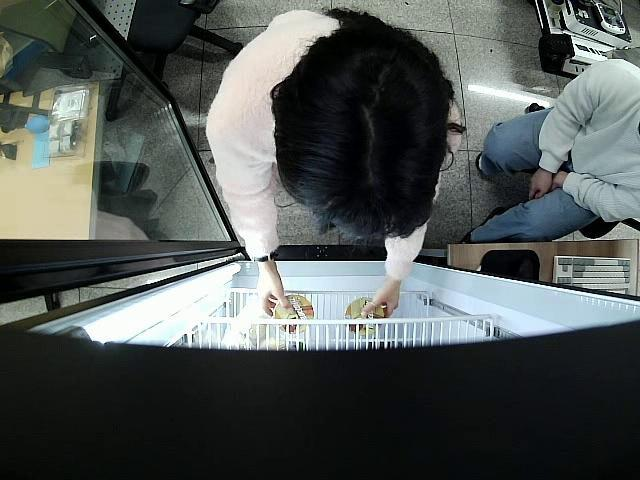04_chapagetti_S: (274, 294, 315, 336), (346, 299, 386, 332)
